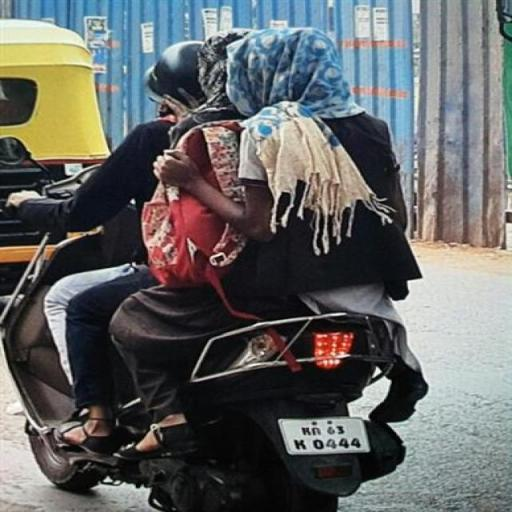tripple riding: (4, 22, 429, 311)
